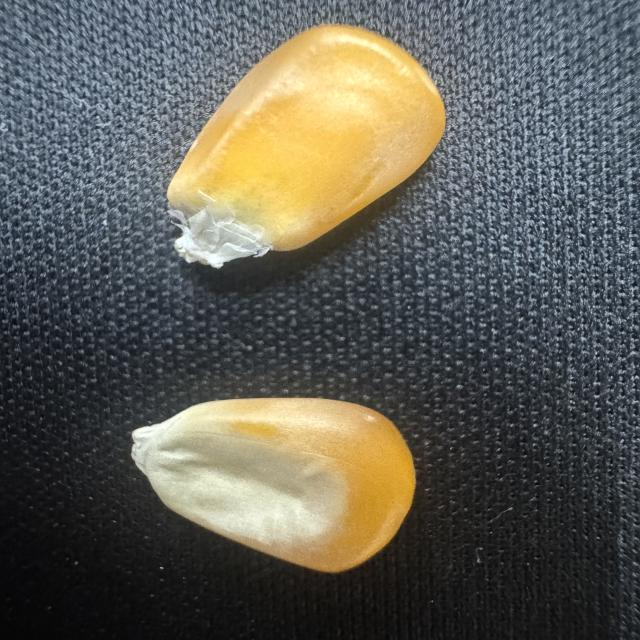Good-Seed: (158, 17, 452, 271), (128, 392, 423, 576)
